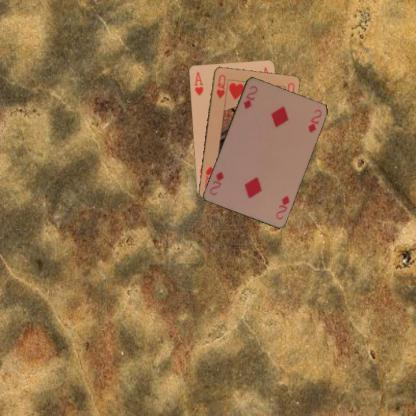2d: (240, 82, 258, 110), (272, 193, 290, 221)
Ah: (192, 70, 204, 96)
Qh: (214, 72, 226, 100)
